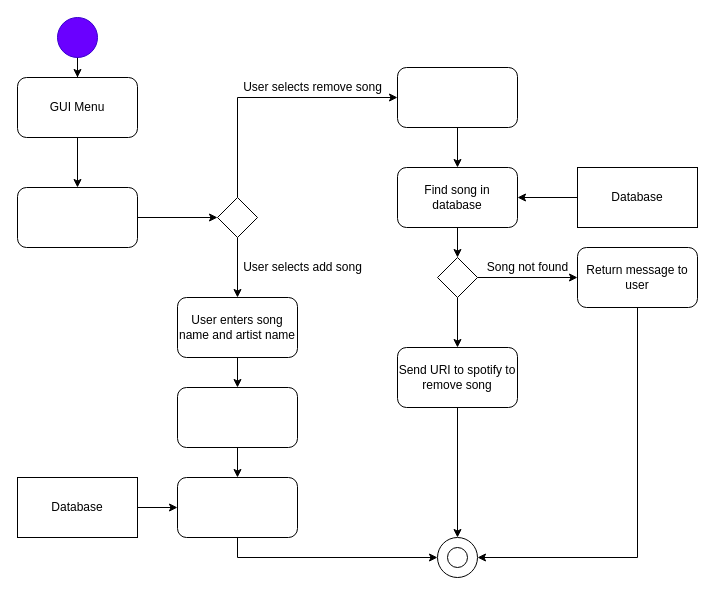
This 715x595 diagram has some shape labels left out. Here are the shapes that lost their labels. From the top down, the centre of each, then its label:
the point at 457,97: User enters song name
the point at 77,217: View Playlist
the point at 237,417: Call spotify to get song URI
the point at 237,507: Add URI and song name to database
